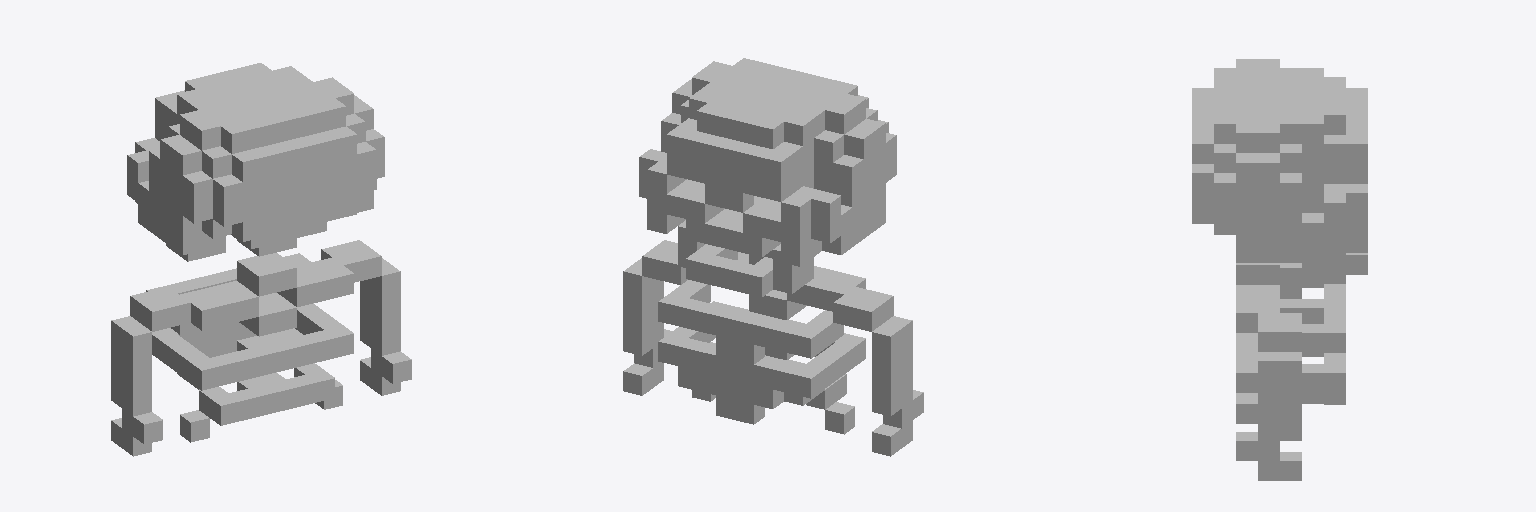
File: human_skeleton_gatherer_top.obj
3 renders of one model, left to right at view 1: azimuth 30°, elevation 25°; view 2: azimuth 150°, elevation 25°; view 3: azimuth 270°, elevation 25°, orthographic.
Parts seen in each view (by area): view 1: node_0_0_0; view 2: node_0_0_0; view 3: node_0_0_0.
Boxes of the visible parts, <box> form: node_0_0_0: <box>111,63,411,456</box>; node_0_0_0: <box>623,58,923,456</box>; node_0_0_0: <box>1192,59,1367,480</box>.
Size of the model in its own units: 0.875 by 1 by 0.5.